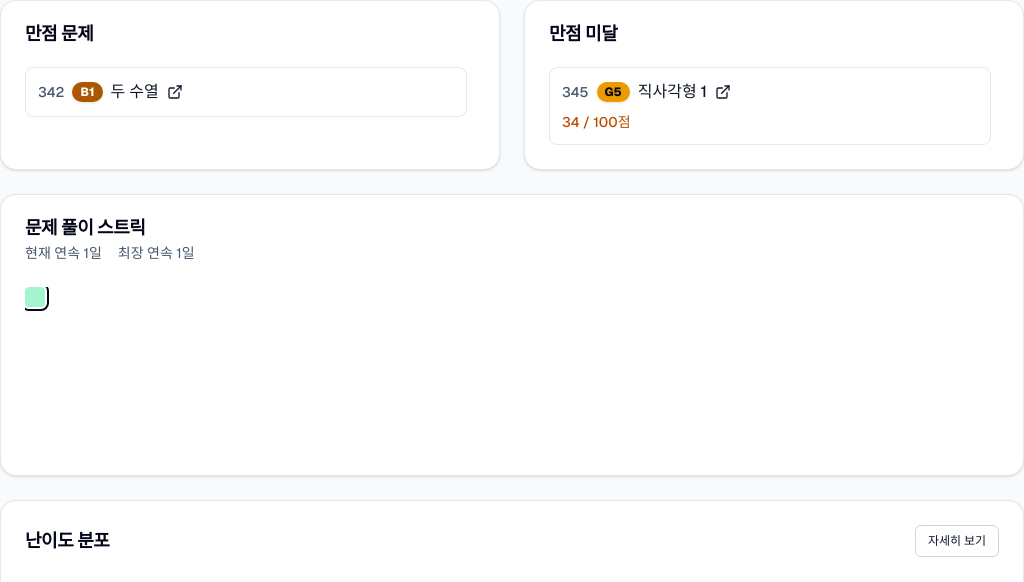
Scenario: ProblemOverview › renders keyboard-readable first-full activity with normalized streak summaries
The width and height of the screenshot is (1024, 582).
Check: the text "현재 연속 1일" is shown, box x1=25 y1=243 x2=102 y2=263
Check: the text "최장 연속 1일" is shown, box x1=118 y1=243 x2=195 y2=263
Focus the button named "2026-07-08: 1개 해결" at (35, 297), box x1=25 y1=287 x2=45 y2=307
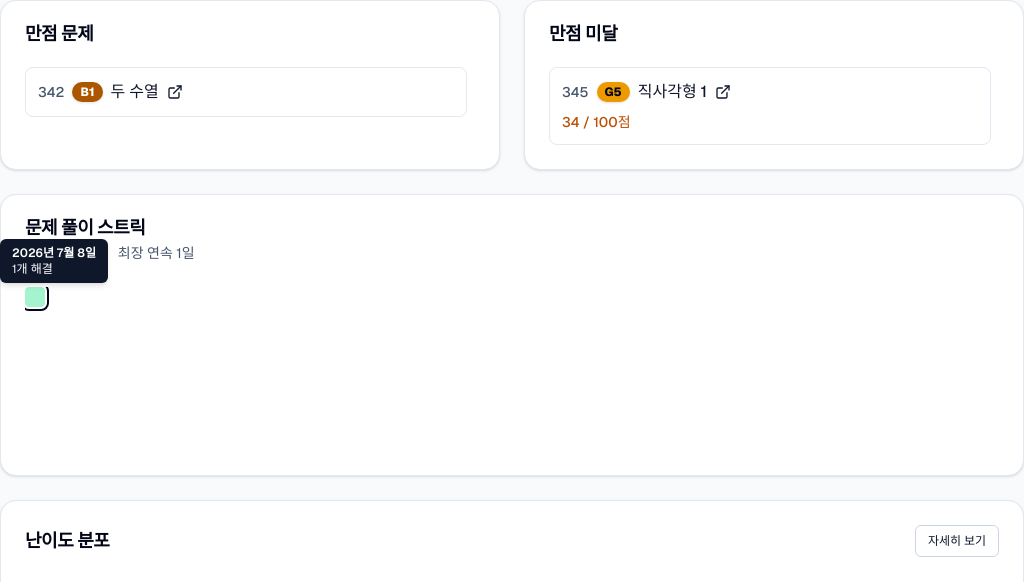
Check: the tooltip shows "2026년 7월 8일", box x1=12 y1=245 x2=96 y2=261
